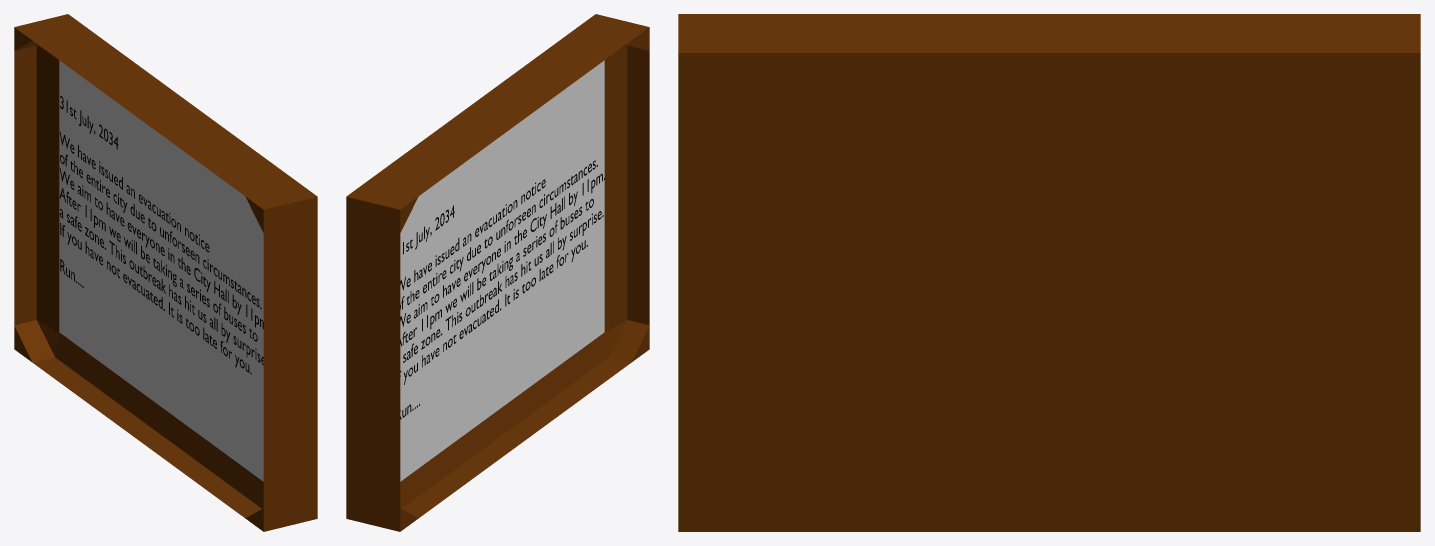
Rendered from Bilboard.glb.
3 renders of one model, left to right at view 1: azimuth 30°, elevation 25°; view 2: azimuth 150°, elevation 25°; view 3: azimuth 270°, elevation 25°, orthographic. The views are drawn at different scales.
Parts seen in each view (by area): view 1: Cube, Text; view 2: Cube, Text; view 3: Cube.
Boxes of the visible parts, x1,y1,x2,y2 form: Cube: (14,14,317,531); Text: (59,96,263,374); Cube: (346,14,649,531); Text: (400,160,604,419); Cube: (678,14,1420,531).
Bounding box in the file's own units: 0.0269 × 0.1535 × 0.2156.
